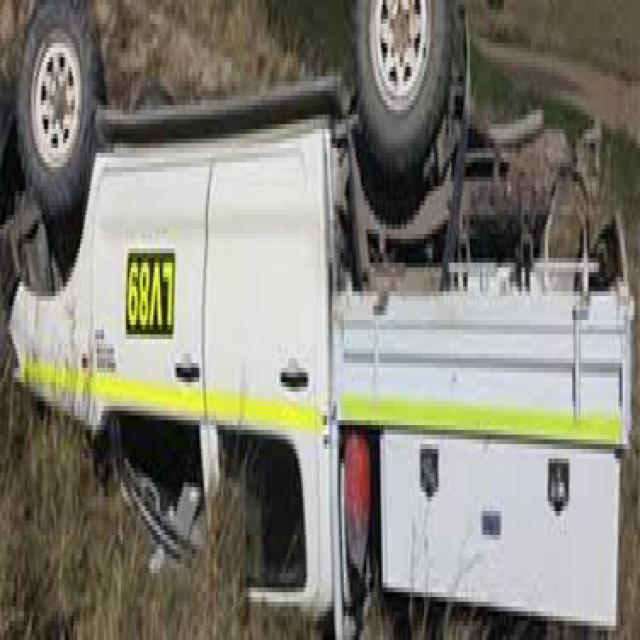light_vehicle: (14, 0, 635, 626)
